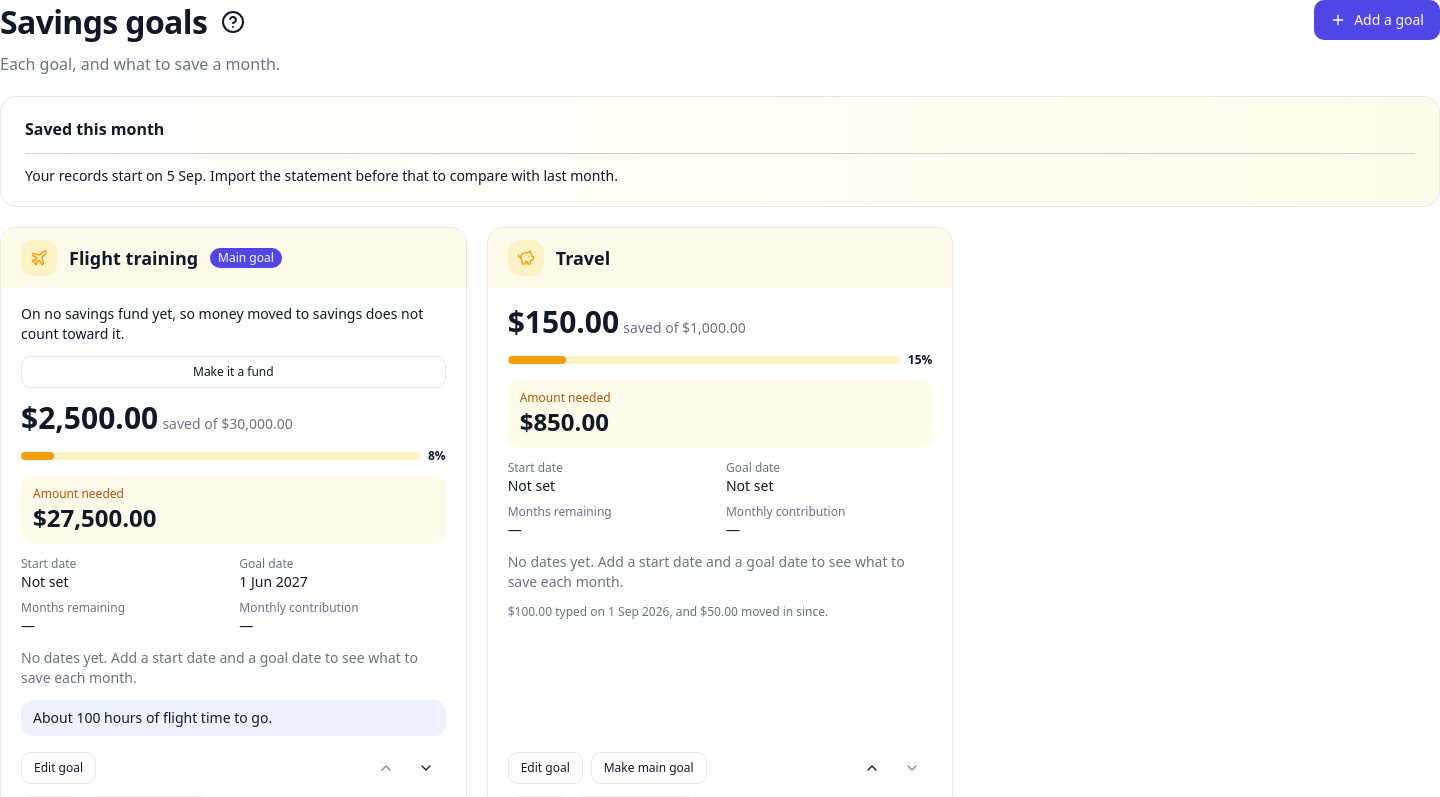
Test: SavingsScreen, setting and linking goals › edits a goal with what is saved filled in as the kept balance, leaving the typed balance and its day alone when only the goal changes
This screenshot has width=1440, height=797.
Click the button "Edit goal" below "$100.00": [545, 768] box left=508, top=752, right=583, bottom=784
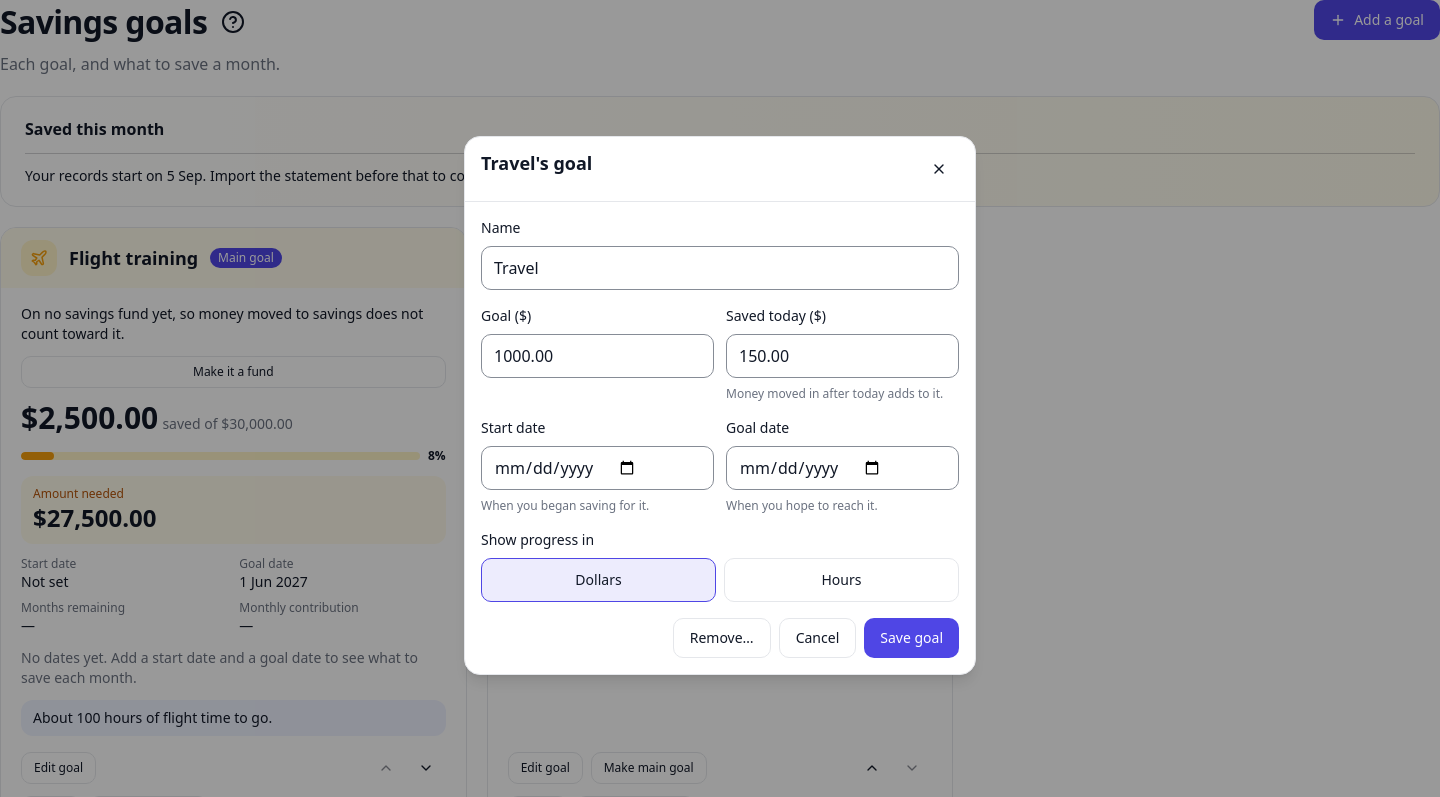
Expected: the field labelled "Goal ($)" holds "1000.00"
Expected: the field labelled "Saved today ($) Money moved in after today adds to it." holds "150.00", left=726, top=334, right=959, bottom=378
Replace the text in the field labelled "Goal ($)" with "1,200": [598, 356] box left=481, top=334, right=714, bottom=378
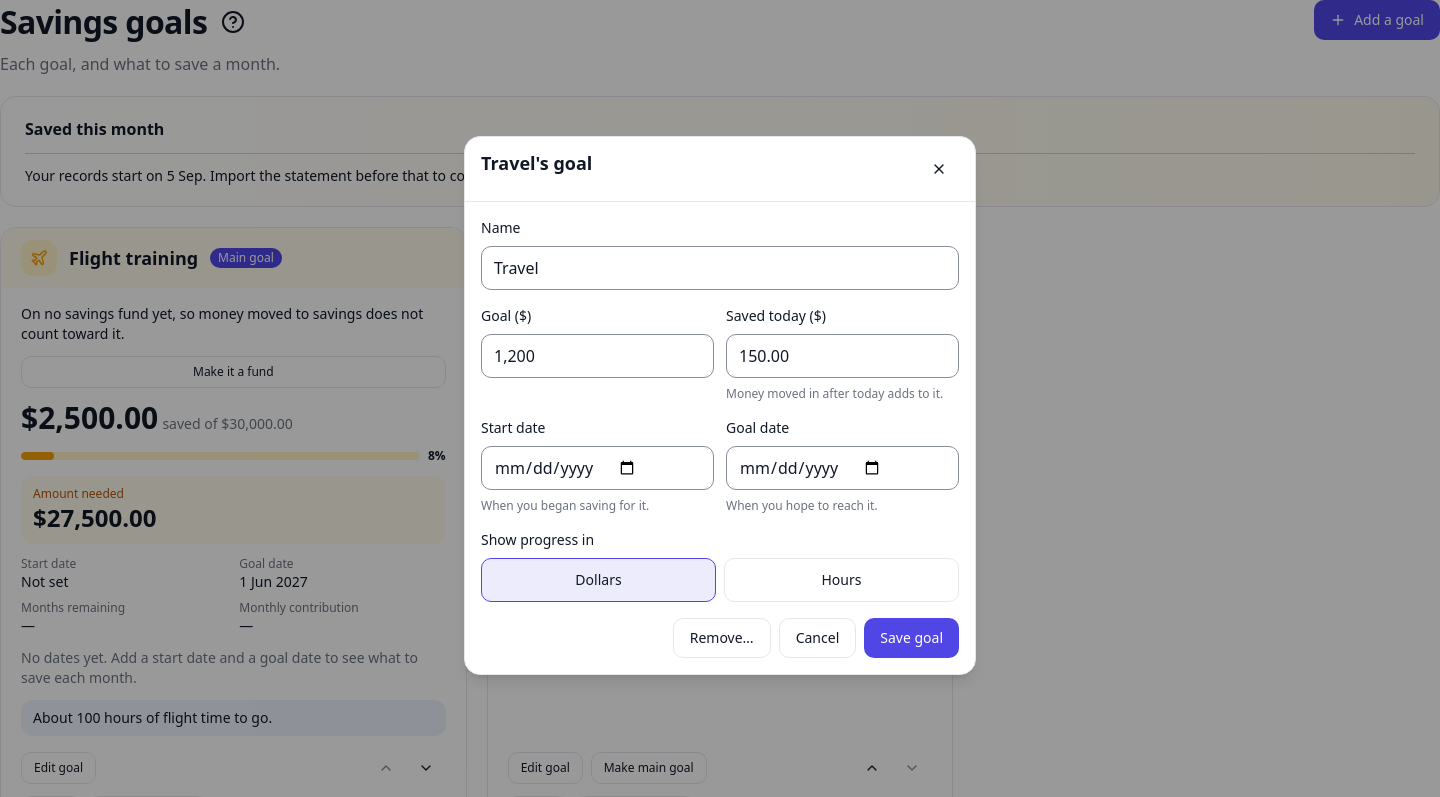
In the date field labelled "Start date When you began saving for it.": [598, 468] box left=481, top=446, right=714, bottom=490, type "2026-01-01"
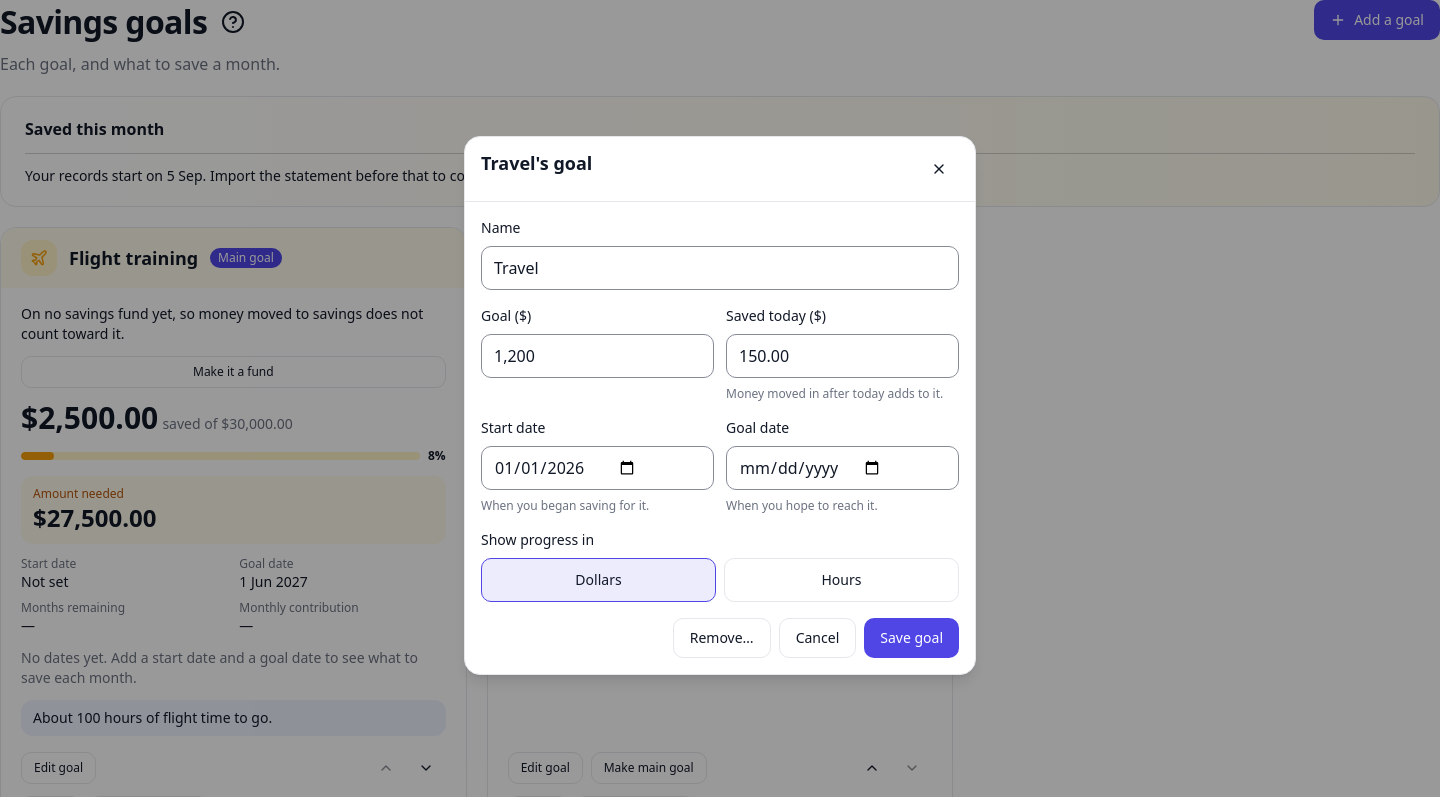
In the date field labelled "Goal date When you hope to reach it.": [842, 468] box left=726, top=446, right=959, bottom=490, type "2026-11-01"
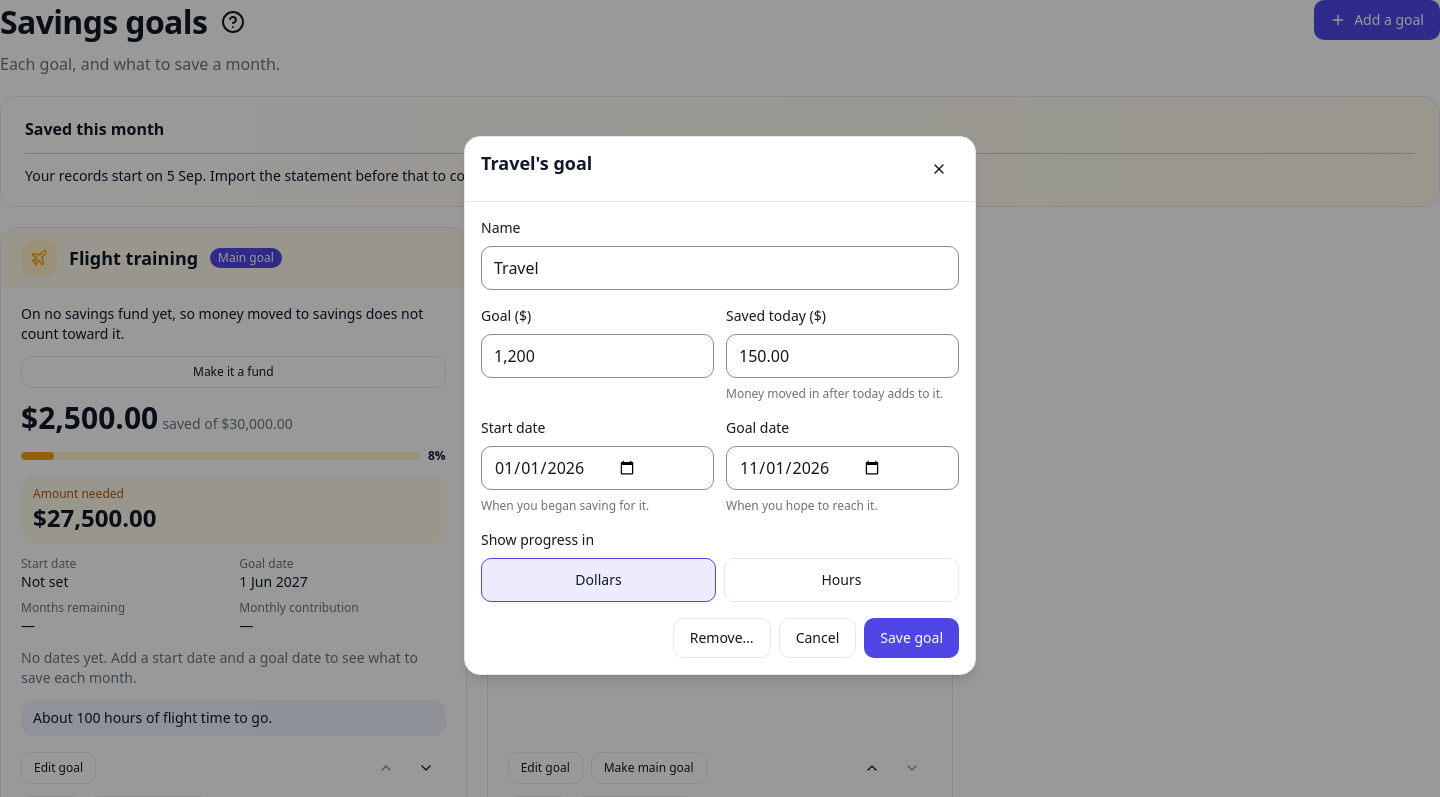
Click the button "Save goal": [912, 638] box left=864, top=618, right=959, bottom=658
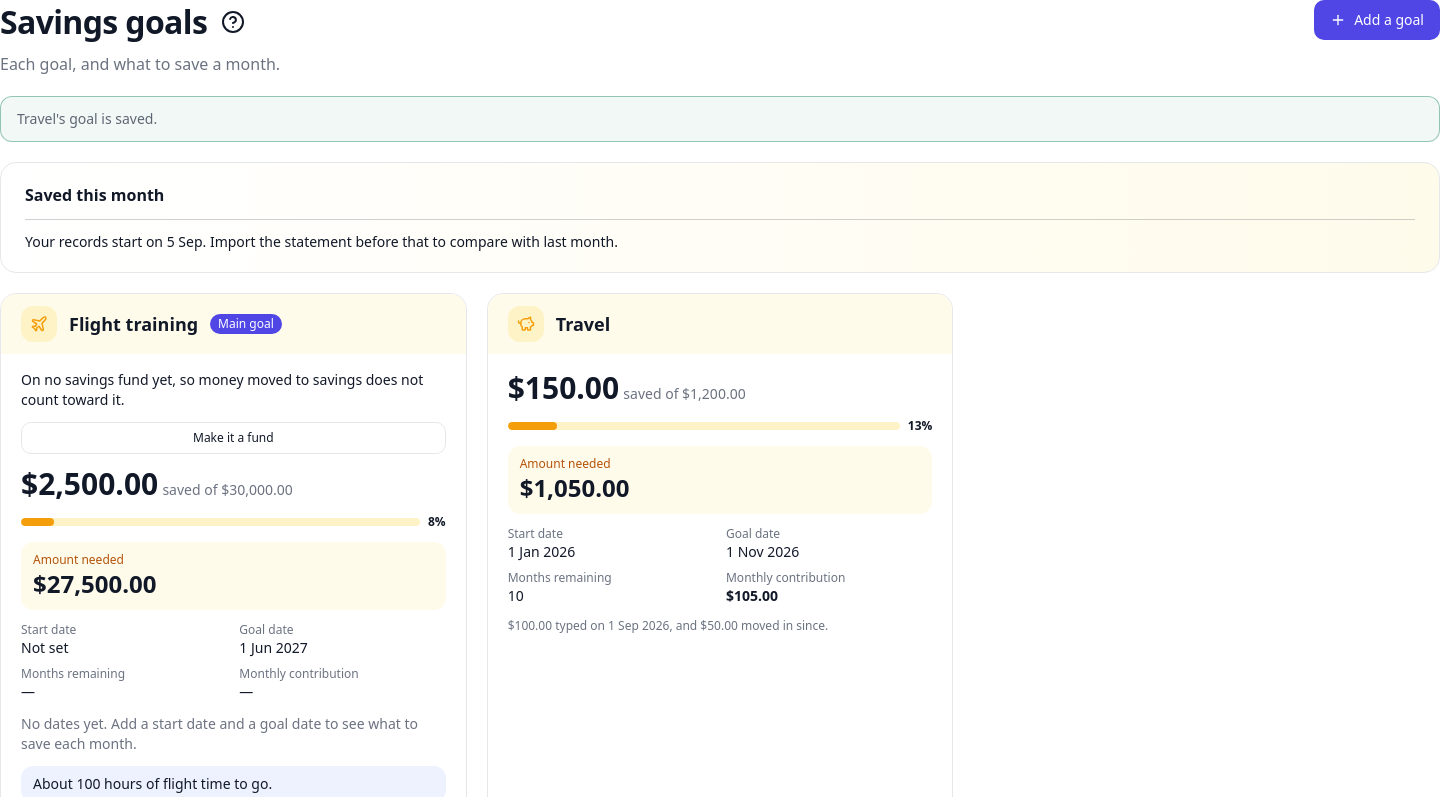
Expected: the text "$150.00" is shown, left=508, top=367, right=619, bottom=408
Expected: the text "Travel's goal is saved." is shown, left=17, top=109, right=157, bottom=128
Expected: the text "$105.00" is shown, left=726, top=586, right=778, bottom=605
